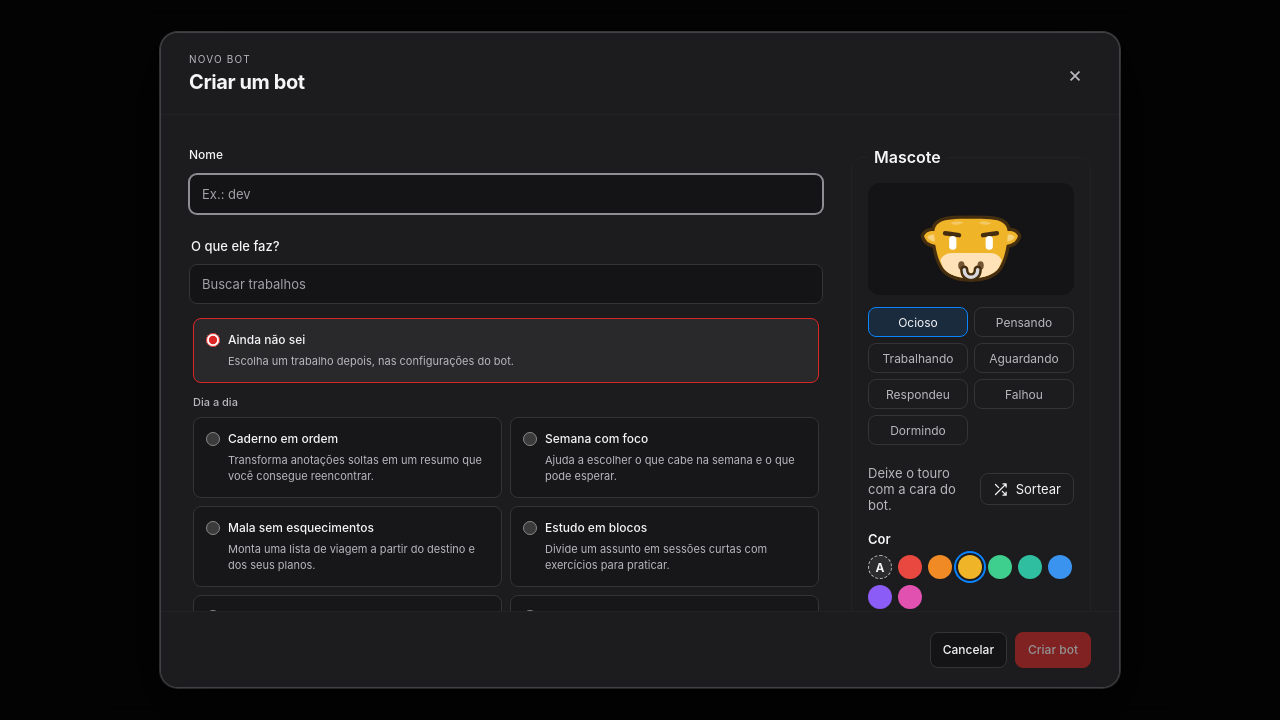
Codex creation hides full access with approval and explains sandbox behavior
Type "Teste" into the field labelled "Nome" at [506, 194], box [189,174,823,214]
(page scrolled)
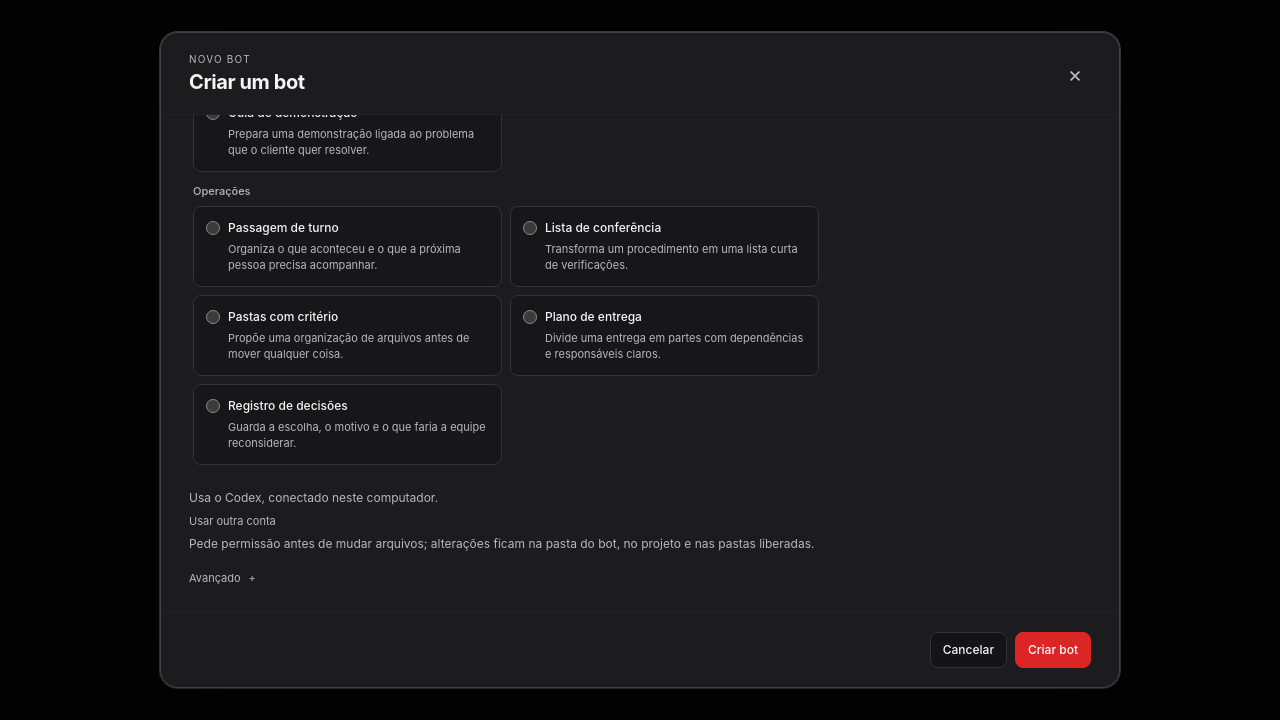
Click the button "Avançado +" at [222, 578], box [189,569,256,587]
(page scrolled)
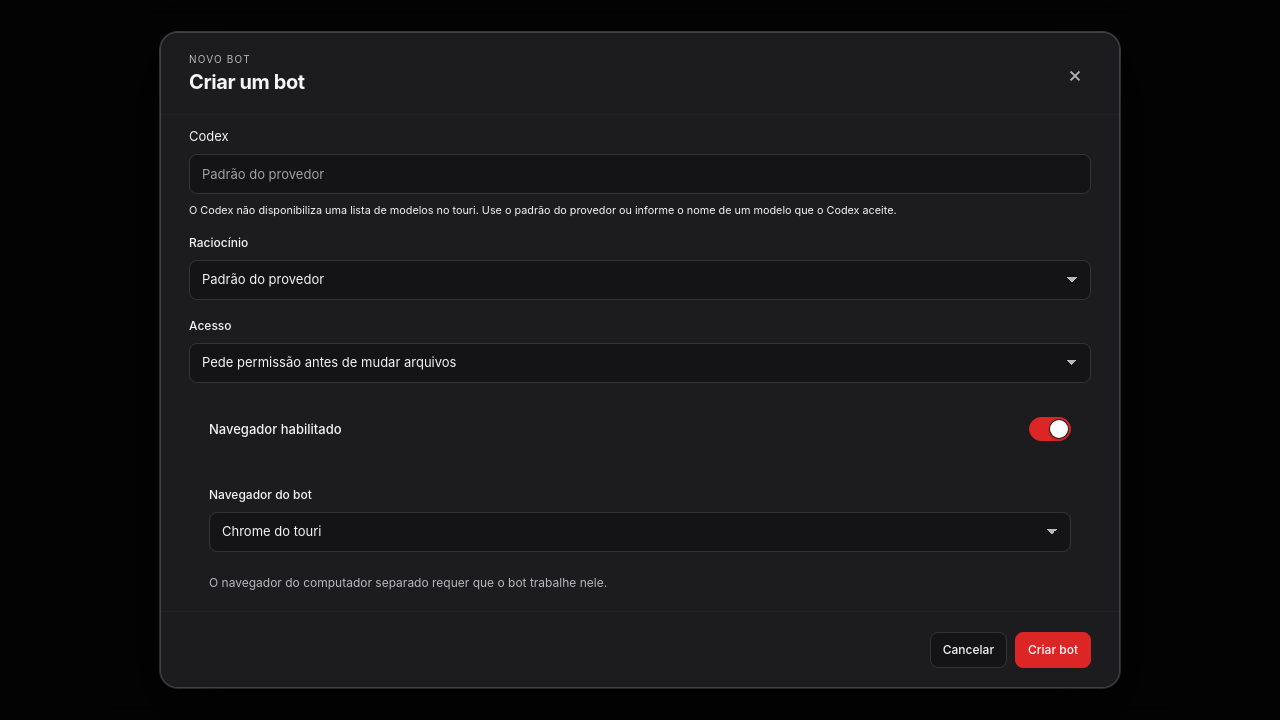
Select "Acesso total" in the dropdown labelled "Acesso" at [640, 362], box [189,342,1091,382]
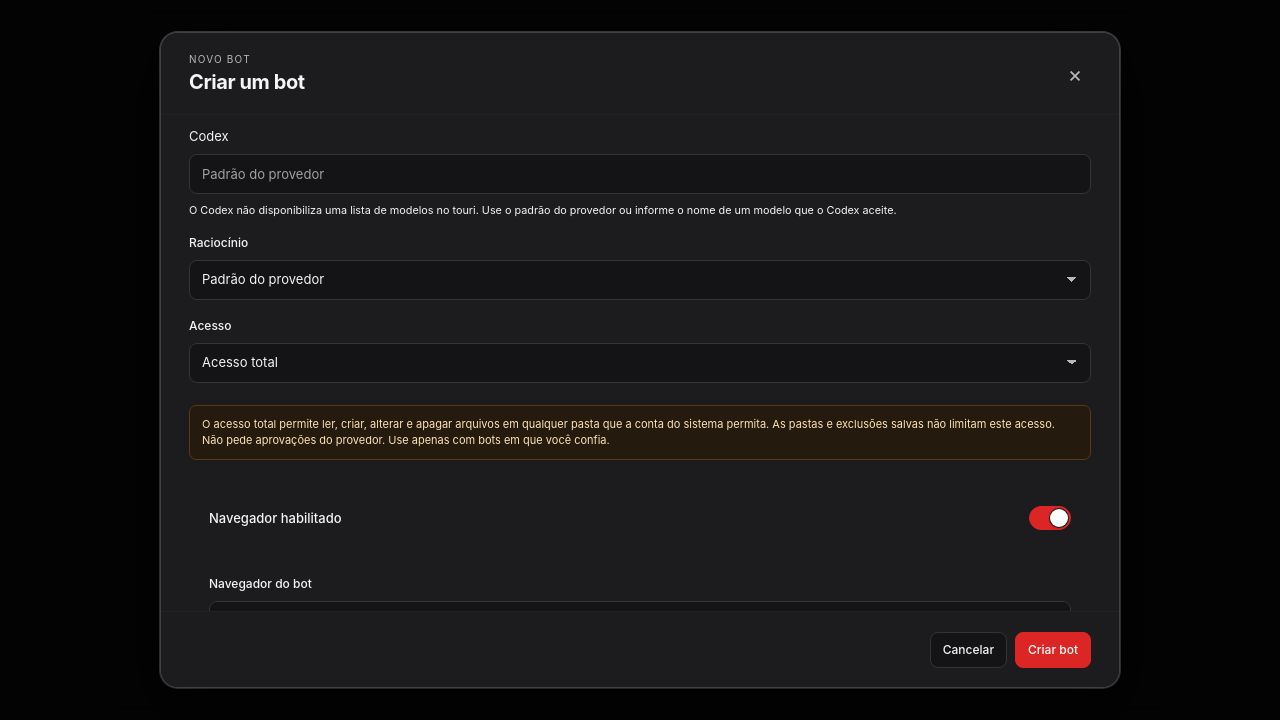
Result: the text "O acesso total permite ler, criar, alterar e apagar arquivos" shows "As pastas e exclusões salvas não limitam este acesso." at [202,416,1055,447]
Result: the text "O acesso total permite ler, criar, alterar e apagar arquivos" shows "Não pede aprovações do provedor." at [202,416,1055,447]
